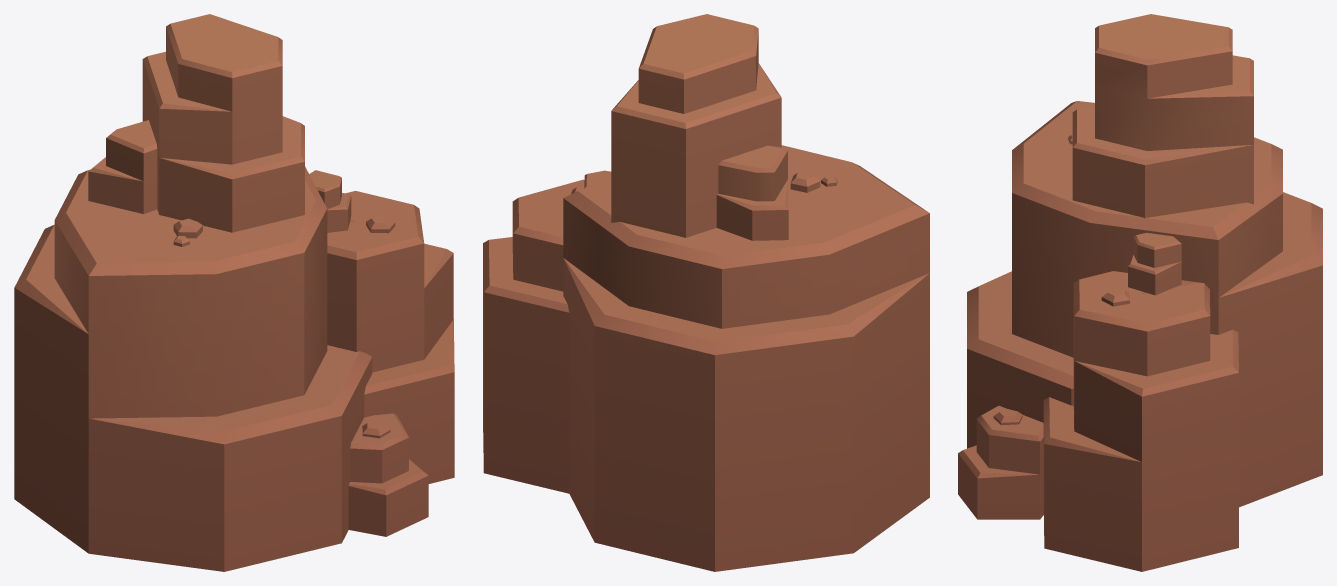
Rendered from Rock_1_L_Color8.fbx.
3 views of the same model, side by side, from view 1: azimuth 30°, elevation 25°; view 2: azimuth 150°, elevation 25°; view 3: azimuth 270°, elevation 25° (orthographic). The views are drawn at different scales.
Visible parts, largest first — view 1: Rock_1_L_Color8; view 2: Rock_1_L_Color8; view 3: Rock_1_L_Color8.
Boxes of the visible parts, x1=… form: Rock_1_L_Color8: x1=14, y1=14, x2=454, y2=571; Rock_1_L_Color8: x1=483, y1=14, x2=929, y2=571; Rock_1_L_Color8: x1=958, y1=14, x2=1322, y2=571.
Bounding box in the file's own units: 3.29 × 3.4 × 2.62.
